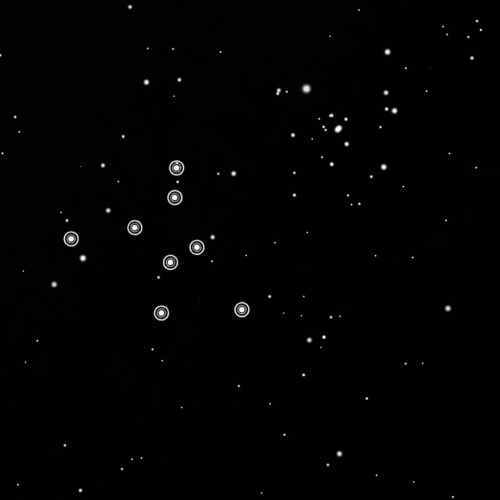hercules: (59, 157, 256, 326)
